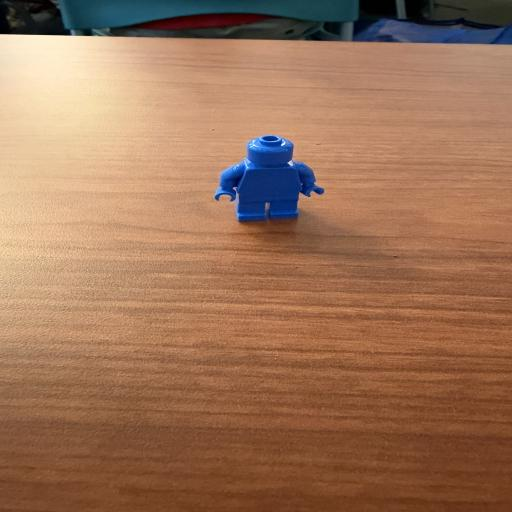blue_minifig: (214, 135, 325, 222)
